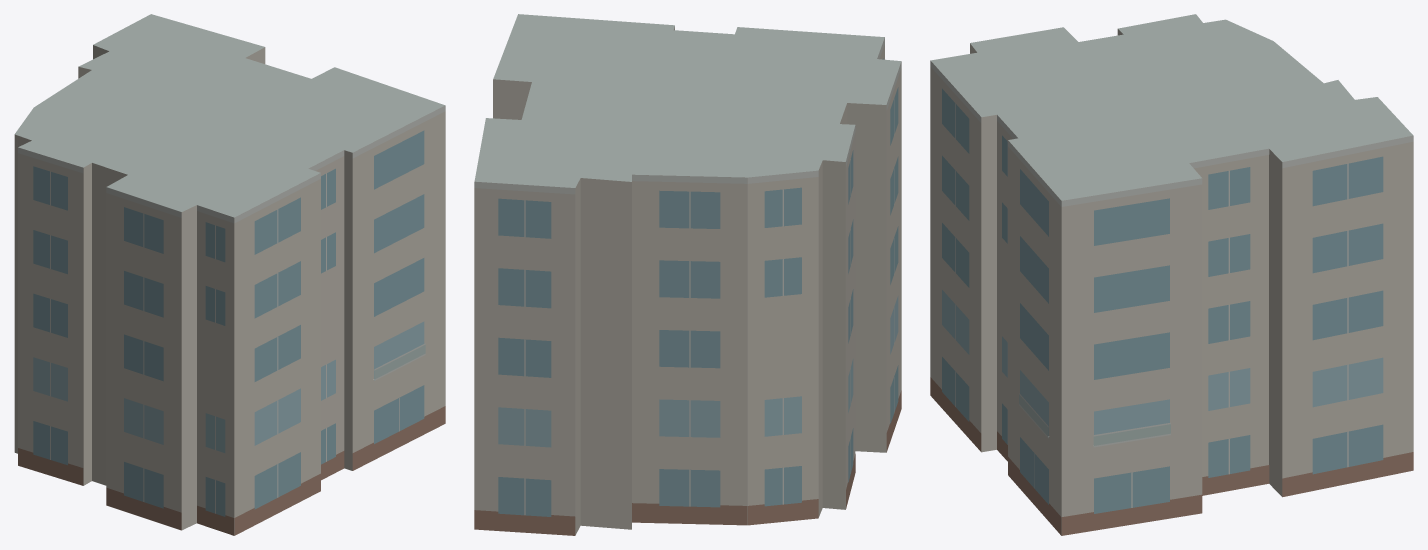
Rendered from survey-upis-32983137.glb.
3 renders of one model, left to right at view 1: azimuth 30°, elevation 25°; view 2: azimuth 150°, elevation 25°; view 3: azimuth 270°, elevation 25°, orthographic. The views are drawn at different scales.
Visible parts, largest first — view 1: survey-upis-32983137.tmp; view 2: survey-upis-32983137.tmp; view 3: survey-upis-32983137.tmp.
Part boxes in pixels (x1,y1,x2,y2): survey-upis-32983137.tmp: [14, 14, 445, 535]; survey-upis-32983137.tmp: [474, 14, 901, 535]; survey-upis-32983137.tmp: [930, 14, 1413, 535].
Bounding box in the file's own units: 15.92 × 13.3 × 17.39.
